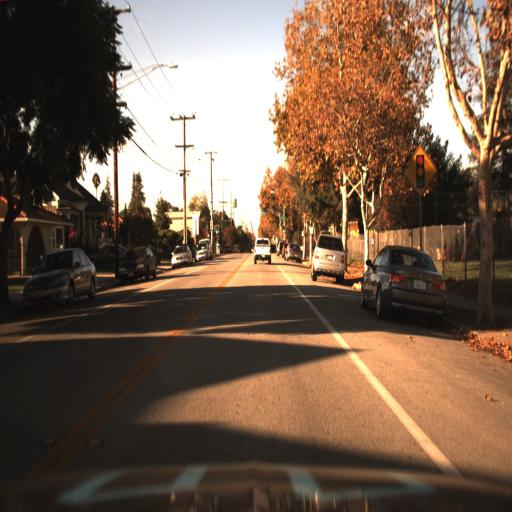car: (357, 240, 448, 323), (360, 238, 449, 321), (18, 241, 99, 315), (308, 228, 346, 284), (112, 242, 160, 285), (90, 239, 130, 271), (167, 239, 195, 271), (251, 233, 274, 267), (169, 242, 194, 271), (282, 241, 302, 265), (193, 241, 211, 264)
